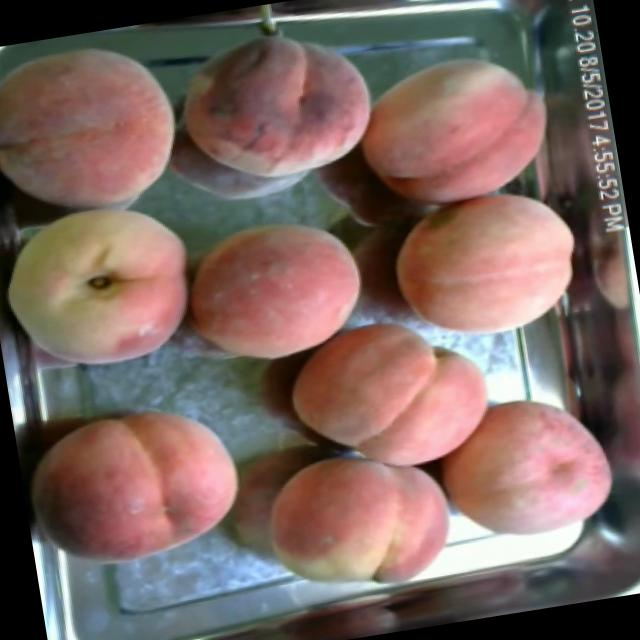Fruit: (147, 5, 396, 214), (14, 383, 259, 590), (268, 299, 509, 497), (0, 189, 220, 394), (245, 422, 474, 616), (0, 18, 208, 228), (158, 194, 381, 389), (342, 36, 564, 220), (418, 378, 634, 566), (376, 178, 598, 360)
